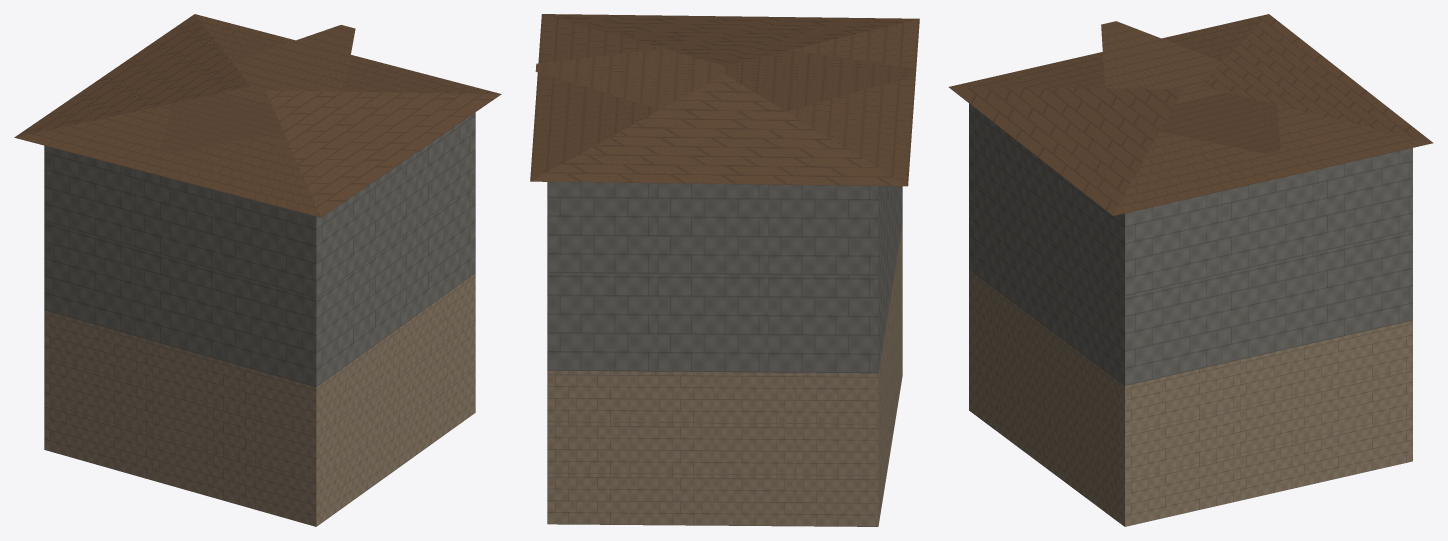
File: bld_c43_33_260.gltf
3 renders of one model, left to right at view 1: azimuth 30°, elevation 25°; view 2: azimuth 150°, elevation 25°; view 3: azimuth 270°, elevation 25°, orthographic. The views are drawn at different scales.
Visible parts, largest first — view 1: bld_c43_33_260; view 2: bld_c43_33_260; view 3: bld_c43_33_260.
Boxes of the visible parts, x1=… form: bld_c43_33_260: x1=14, y1=14, x2=501, y2=526; bld_c43_33_260: x1=530, y1=14, x2=919, y2=526; bld_c43_33_260: x1=948, y1=14, x2=1433, y2=526.
Size of the model in its own units: 15.67 by 12.6 by 15.9.
3 materials, 3 textured.
